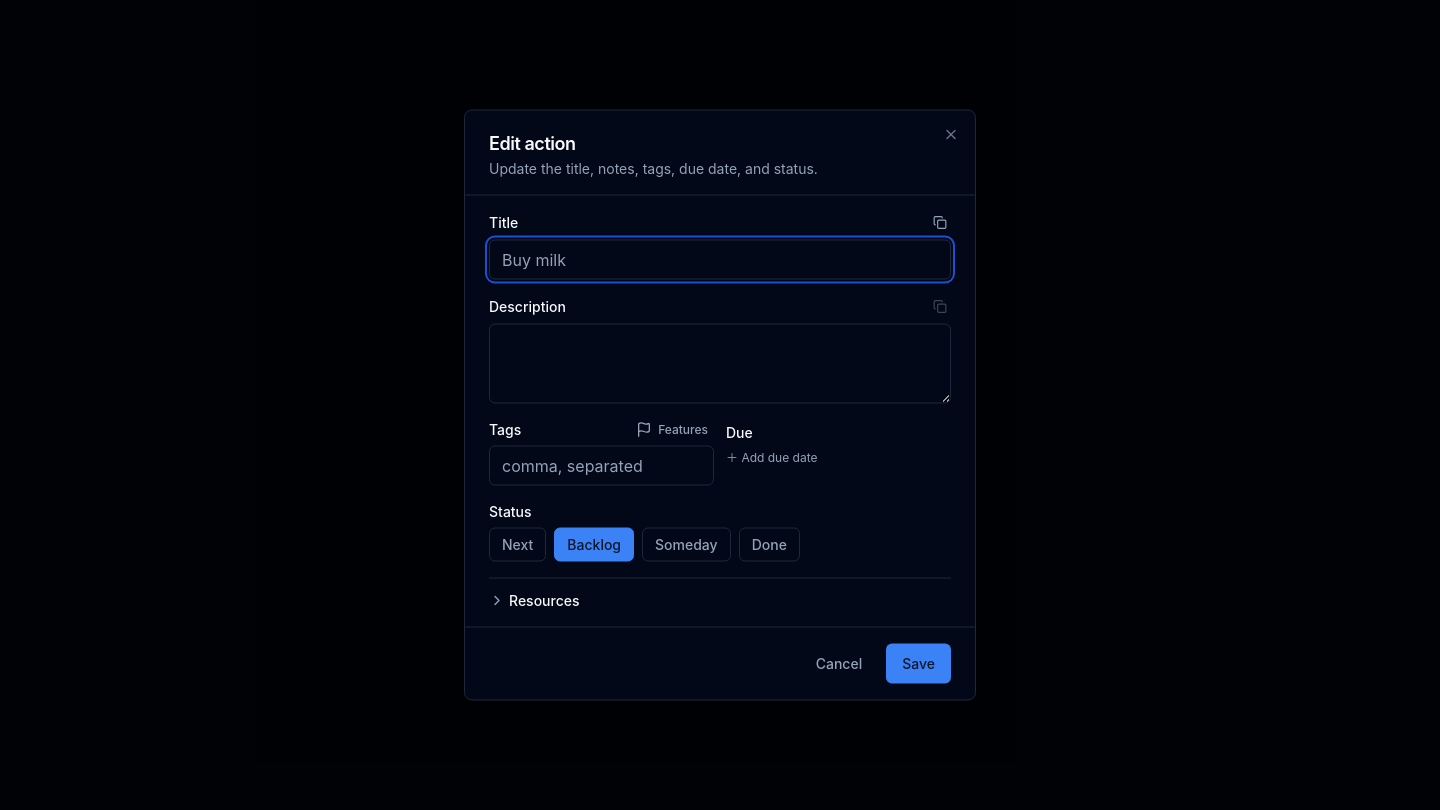
Test: ActionDialog › rejects an end date before the start (no save) (#438)
Replace the text in the field labelled "Title" with "Trip" at (720, 260), box [489, 240, 951, 280]
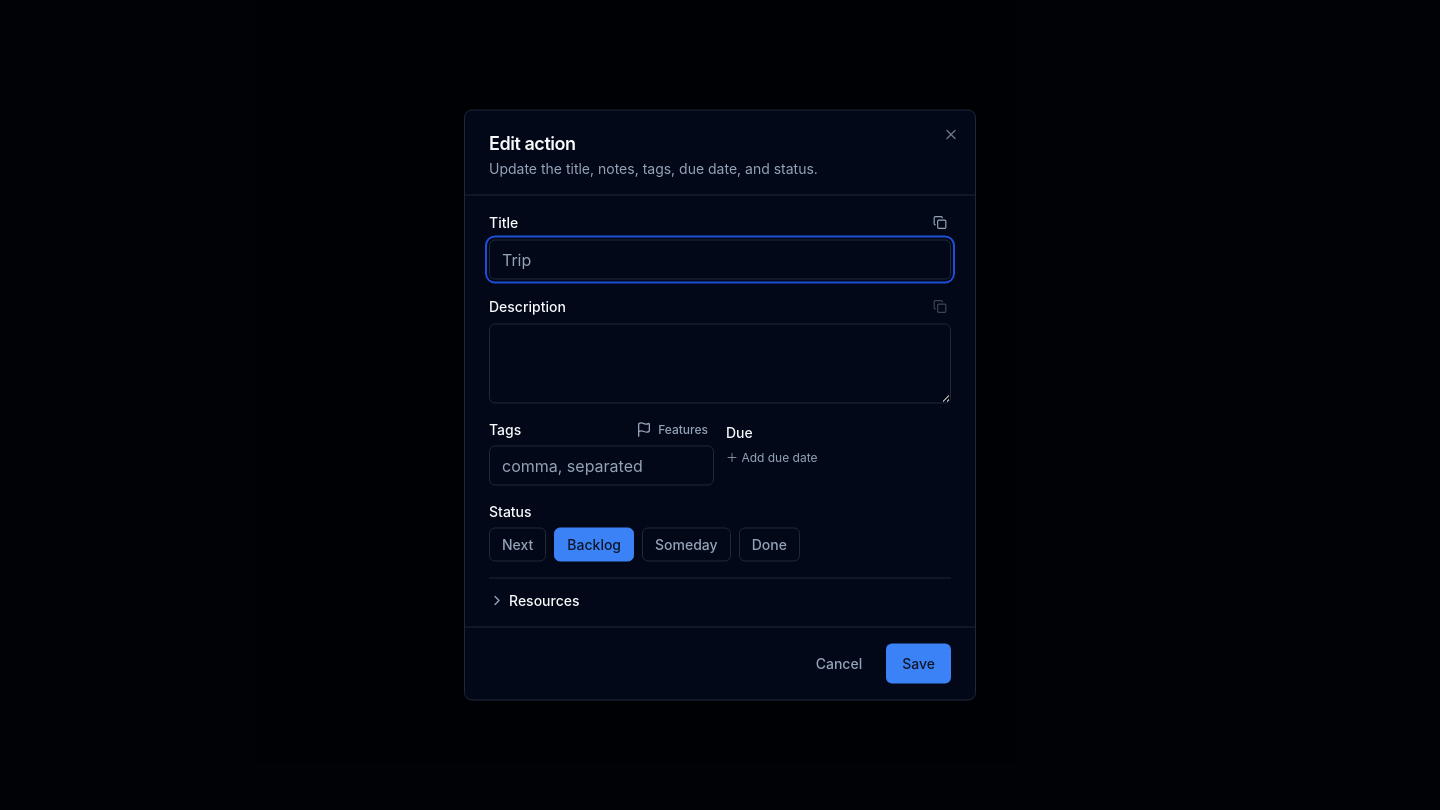
Click the button "＋ Add due date" at (772, 458), box [726, 450, 817, 466]
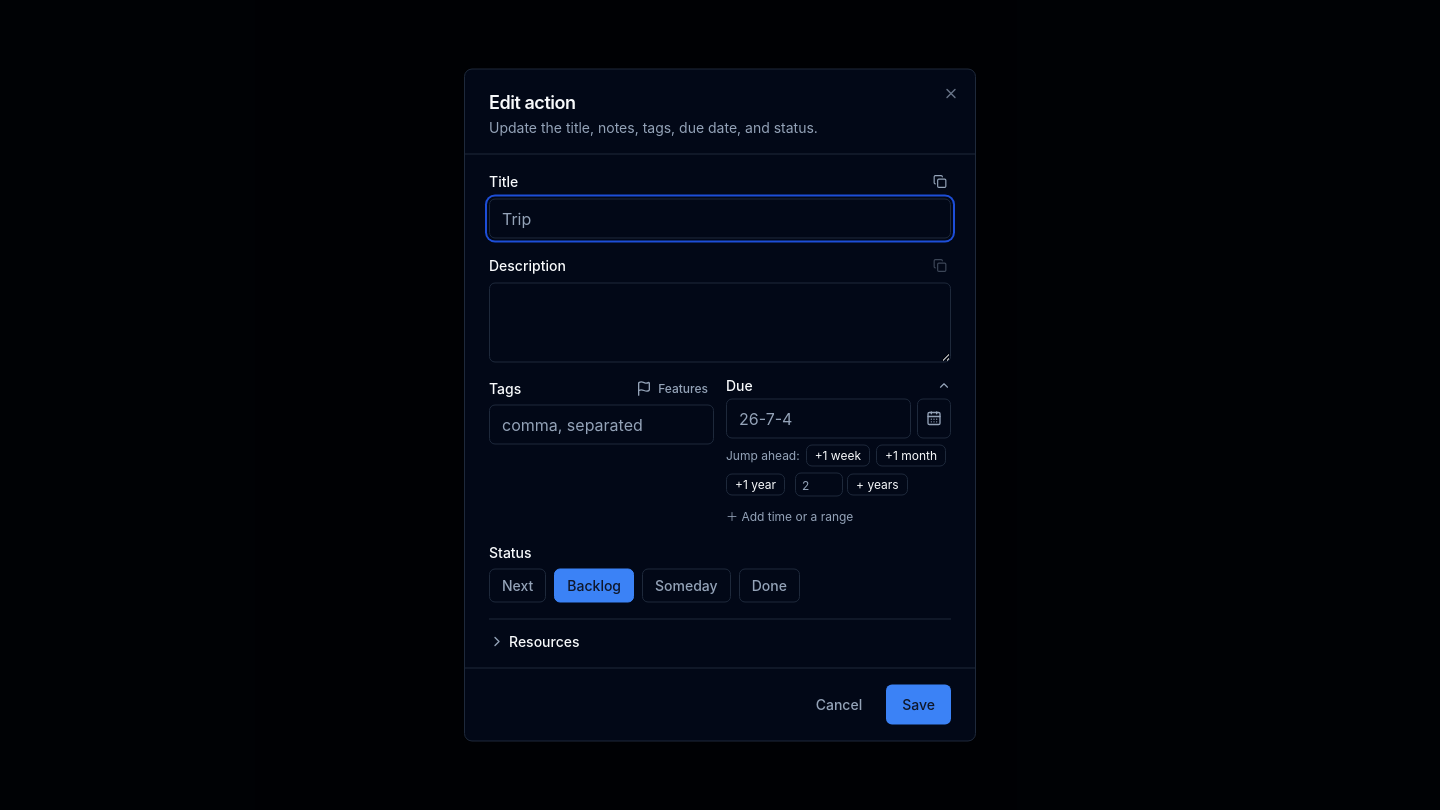
Click the button "＋ Add time or a range" at (790, 516), box [726, 508, 853, 524]
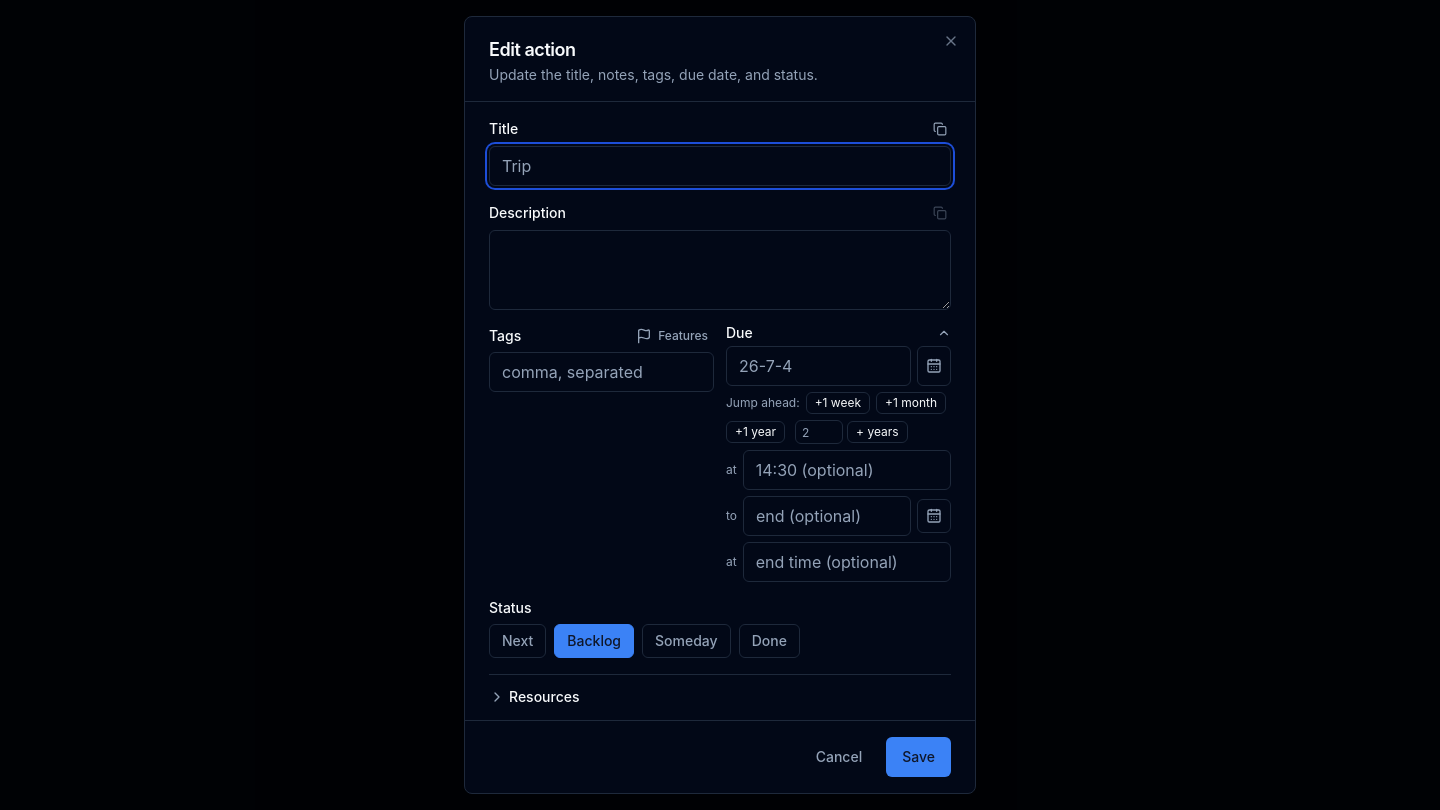
Type "2026-08-16" into the field labelled "Due" at (818, 366), box [726, 346, 911, 386]
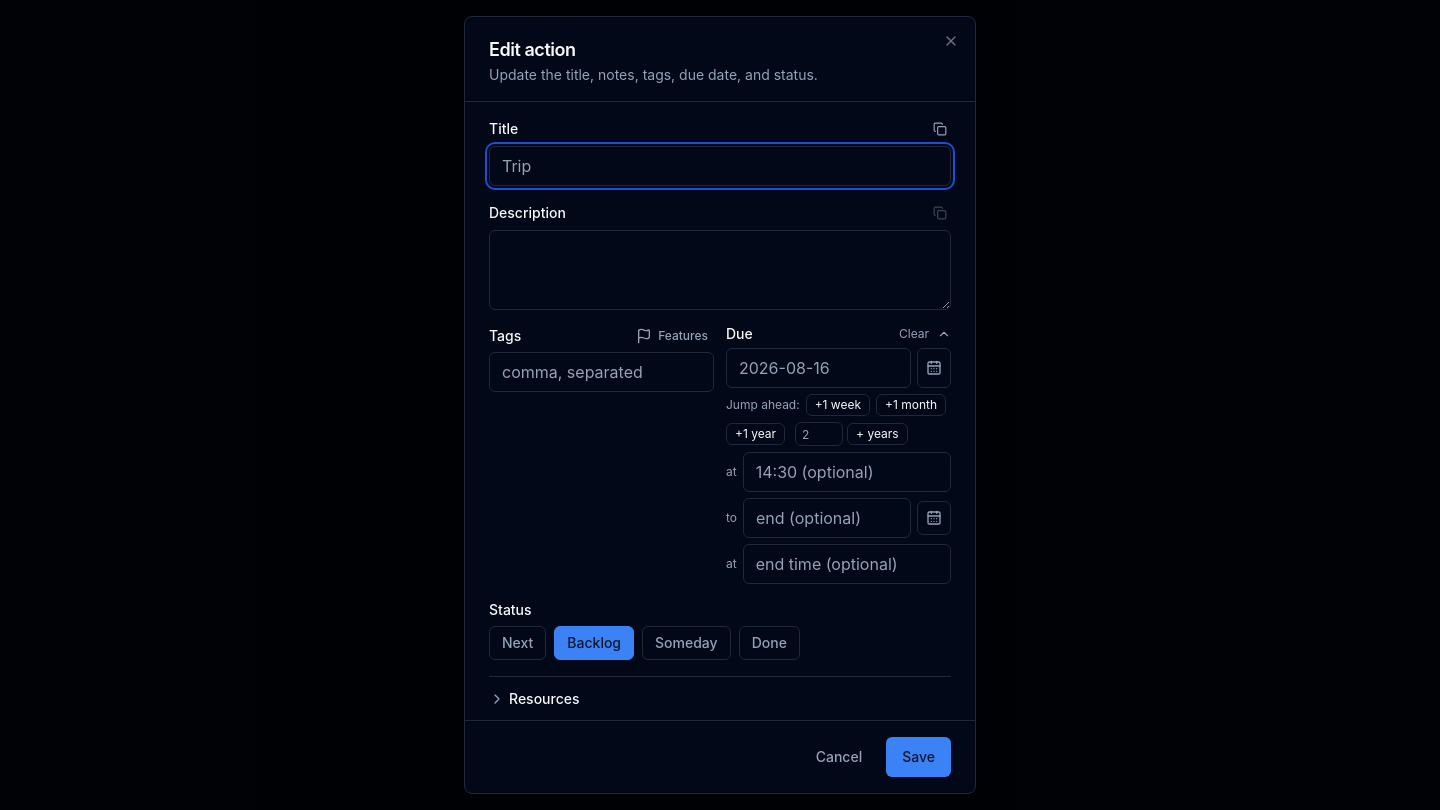
Type "2026-08-12" into the field named "Due end (optional)" at (827, 518), box [743, 498, 911, 538]
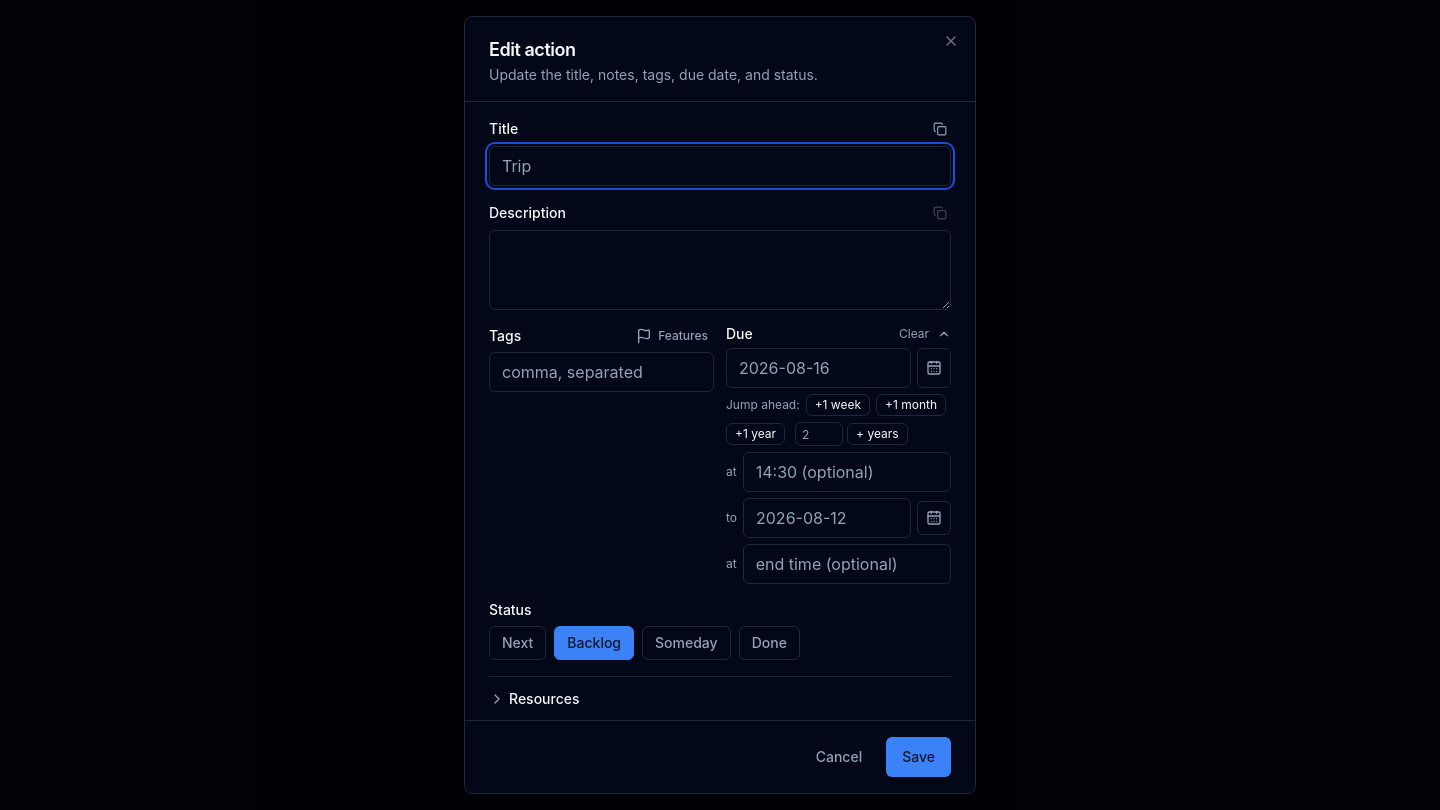
Click the button "Save" at (919, 757), box [886, 737, 951, 777]
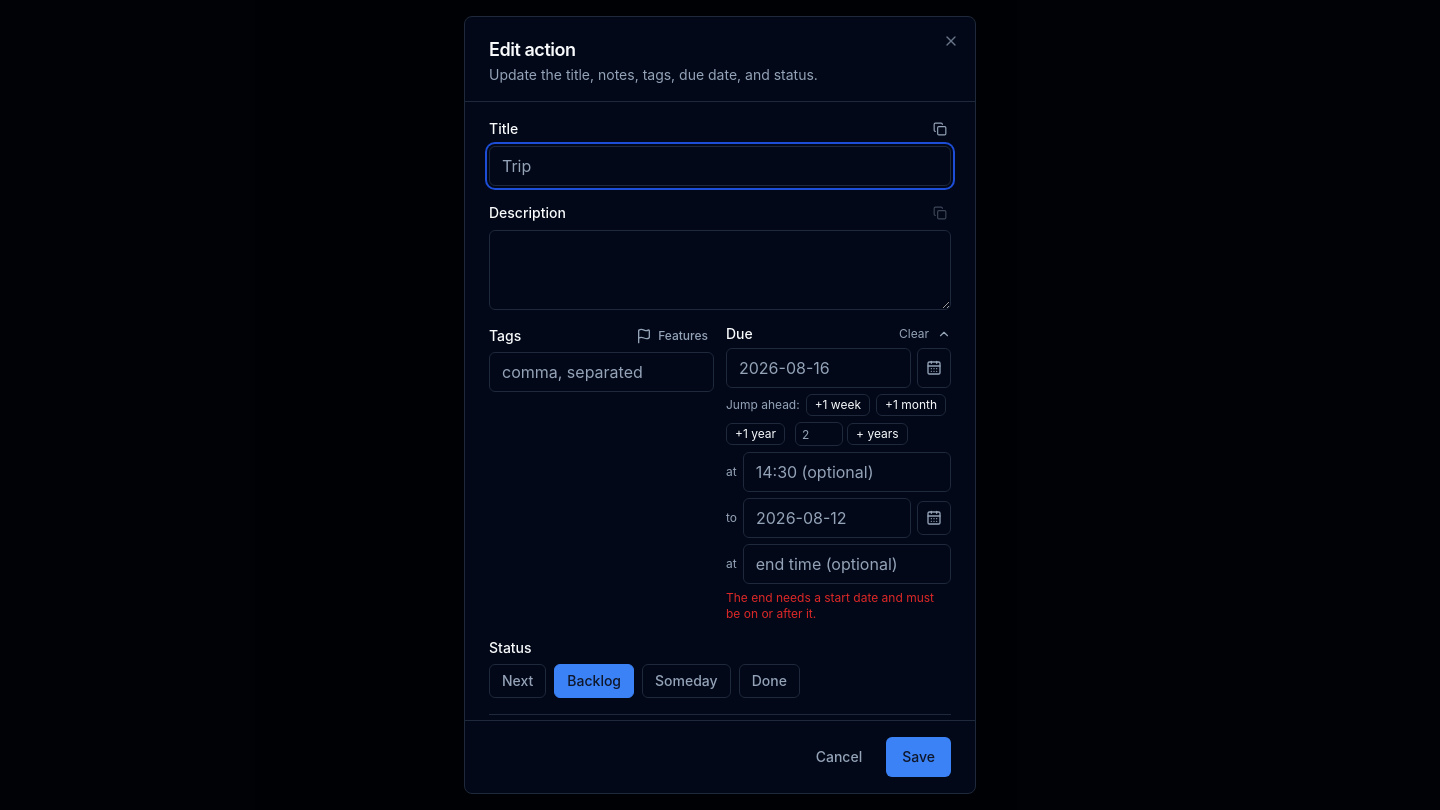
Now the message "The end needs a start date and must be on or after it." is shown, box [726, 590, 951, 622]
